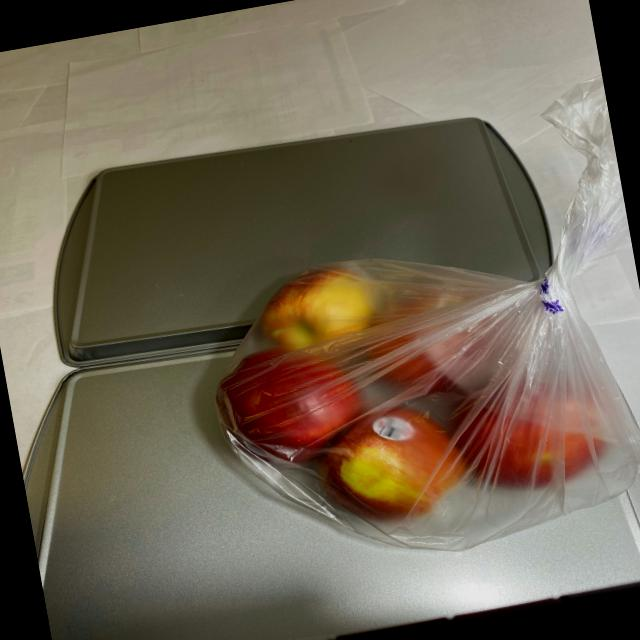apple: (192, 220, 626, 554)
